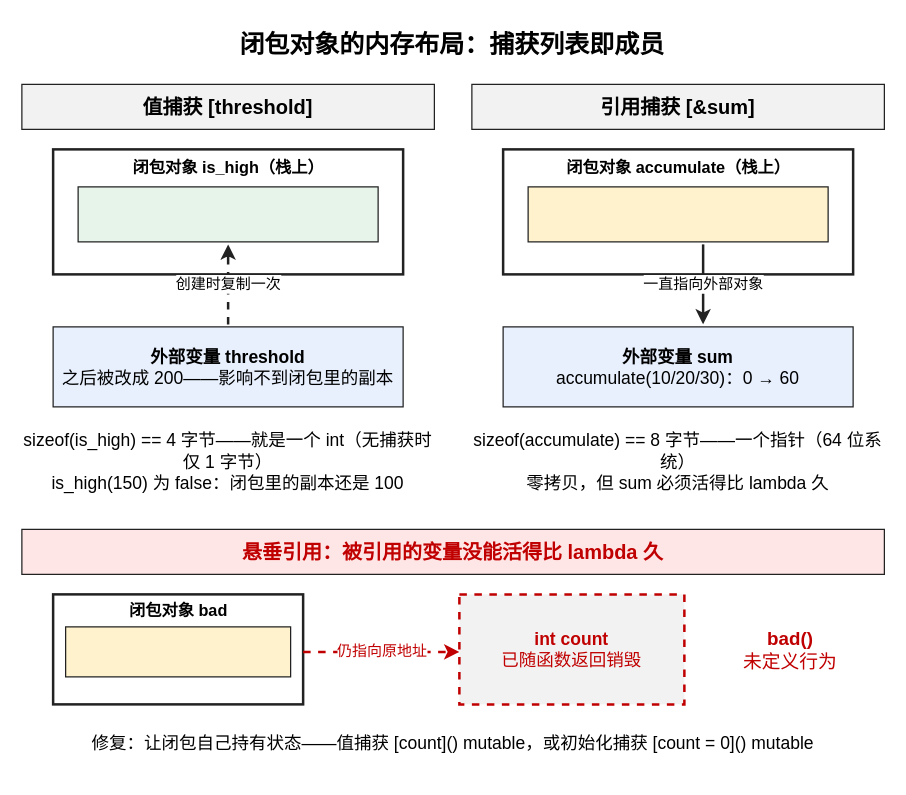
The diagram is 906 pixels wide and 795 high, and some of its shapes have lost their labels. Here are the shapes that lost their labels. From the top down, the box of each, then its label:
(77, 186, 378, 242): int threshold = 100（副本）
(527, 186, 828, 242): int& sum （存的是地址）
(64, 626, 291, 677): int& count （地址还在）
